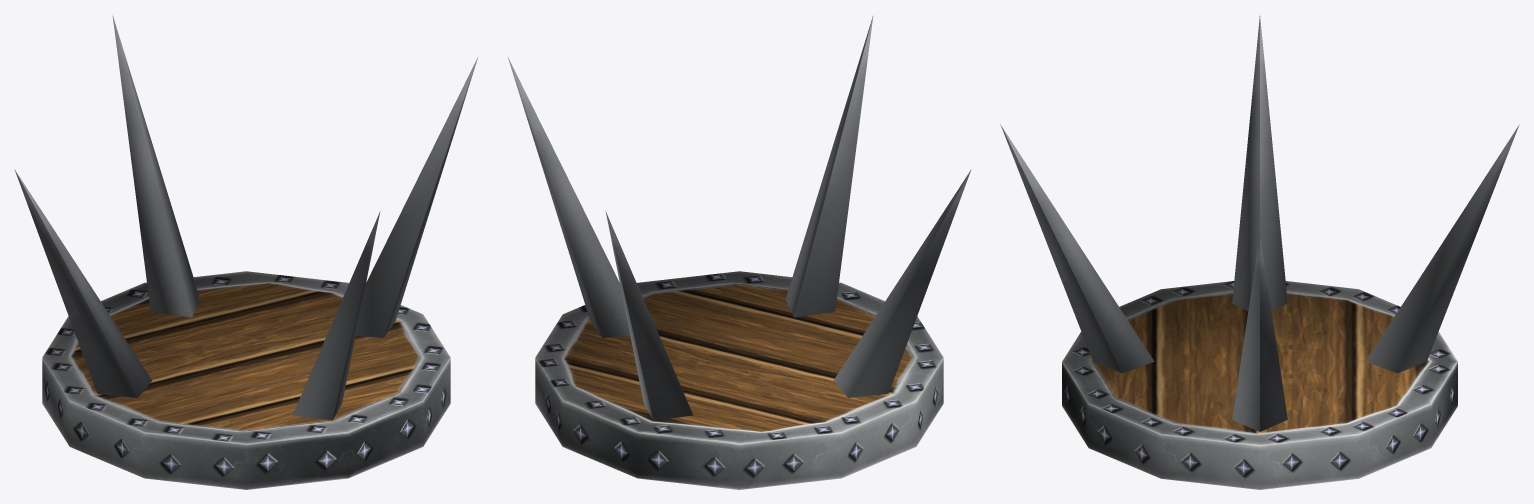
Rendered from Crystal_Base_L2.FBX.
3 views of the same model, side by side, from view 1: azimuth 30°, elevation 25°; view 2: azimuth 150°, elevation 25°; view 3: azimuth 270°, elevation 25° (orthographic). The views are drawn at different scales.
Visible parts, largest first — view 1: Base_L3; view 2: Base_L3; view 3: Base_L3.
Part boxes in pixels (x1,y1,x2,y2): Base_L3: (14, 15, 477, 489); Base_L3: (508, 15, 971, 489); Base_L3: (1000, 16, 1519, 489).
Size of the model in its own units: 2.46 by 2.46 by 1.48.
